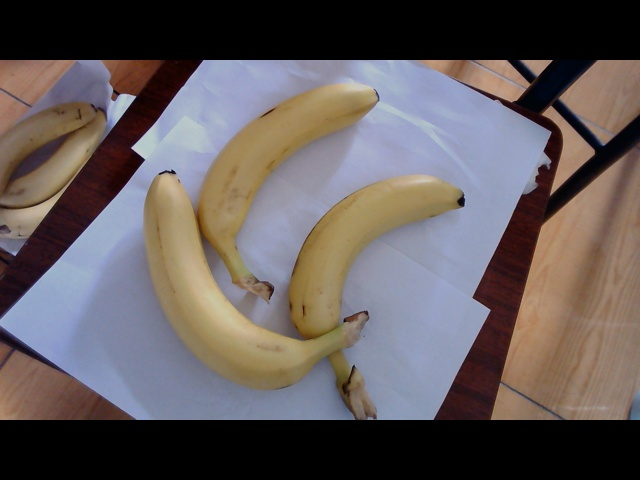banana: (294, 160, 463, 408), (140, 171, 299, 401), (206, 74, 380, 244), (1, 89, 92, 236)
